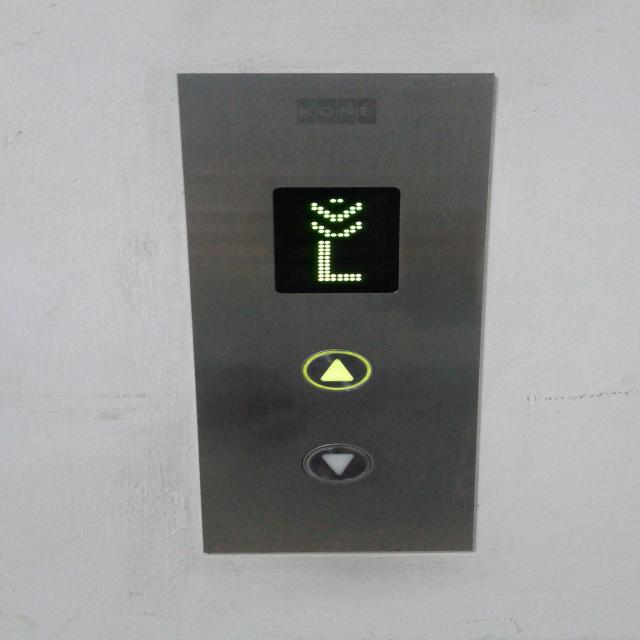down: (302, 441, 373, 487)
led: (264, 181, 410, 298)
up: (299, 348, 373, 393)
